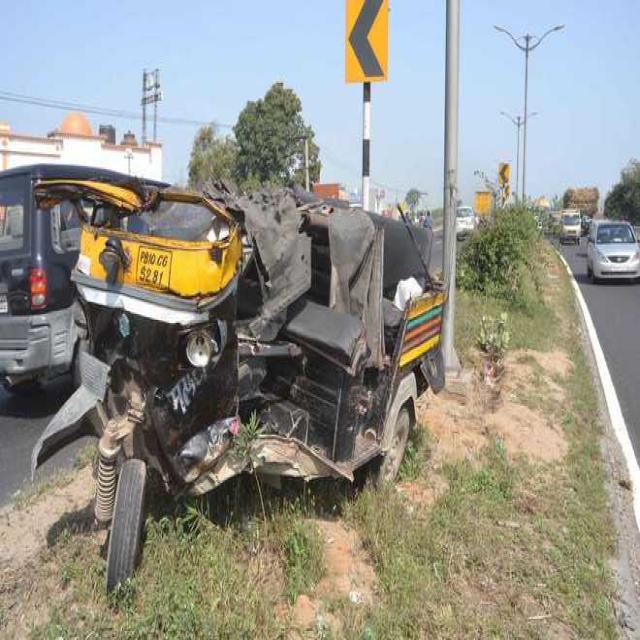accident: (32, 179, 445, 591)
car: (0, 165, 79, 384), (588, 220, 640, 279)
